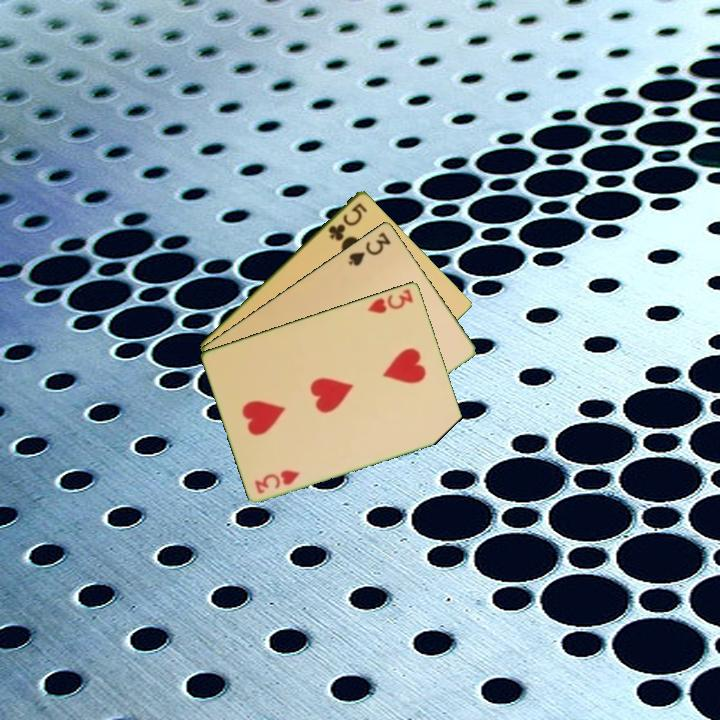3h: (364, 285, 416, 316), (251, 466, 303, 496)
3s: (345, 228, 394, 269)
5c: (325, 199, 370, 244)
